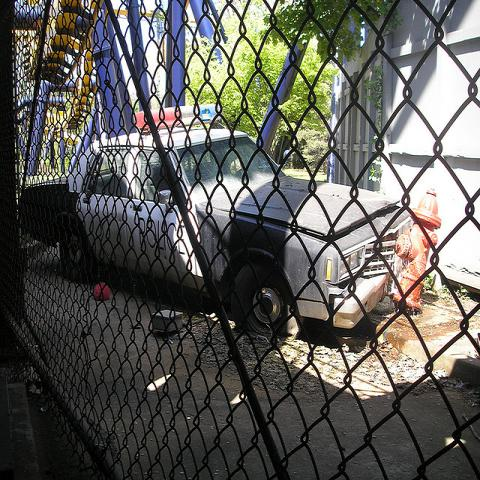car: (20, 101, 415, 340)
